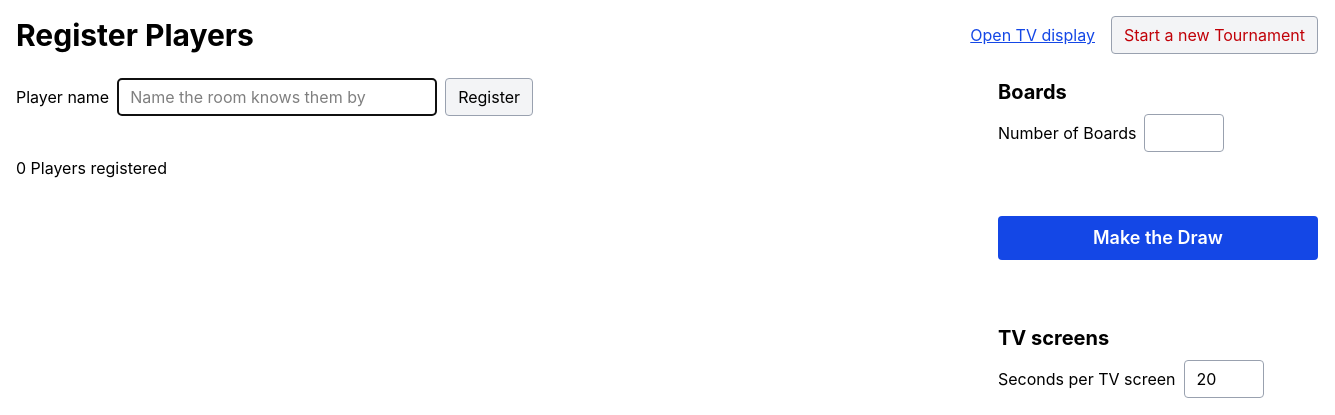
Test case: the organizer route › removes a Player
The image size is (1335, 415).
Type "Dave K." into the field labelled "Player name". click: (277, 97)
box: [117, 78, 437, 116]
Then press Enter
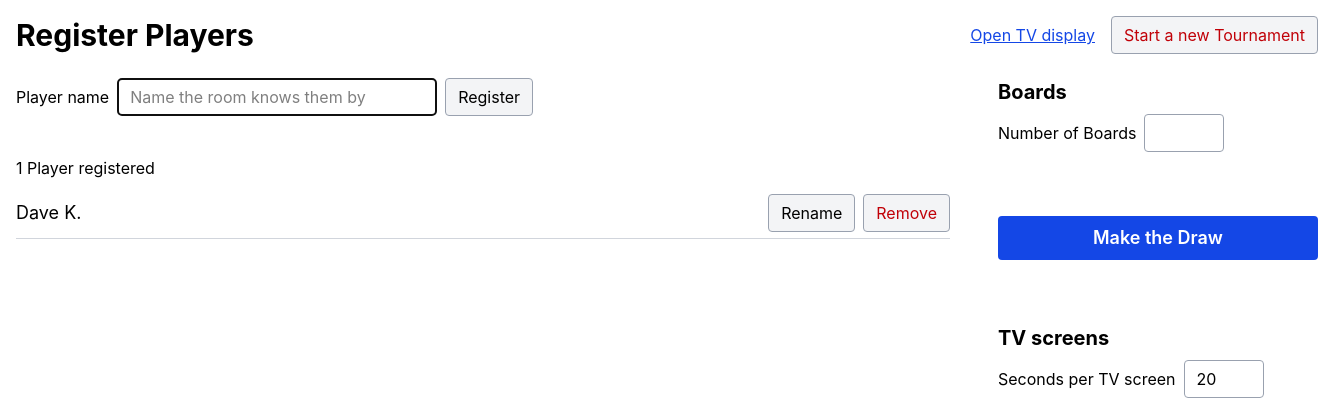
Type "Big Dave" into the field labelled "Player name". click: (277, 97)
box: [117, 78, 437, 116]
Then press Enter
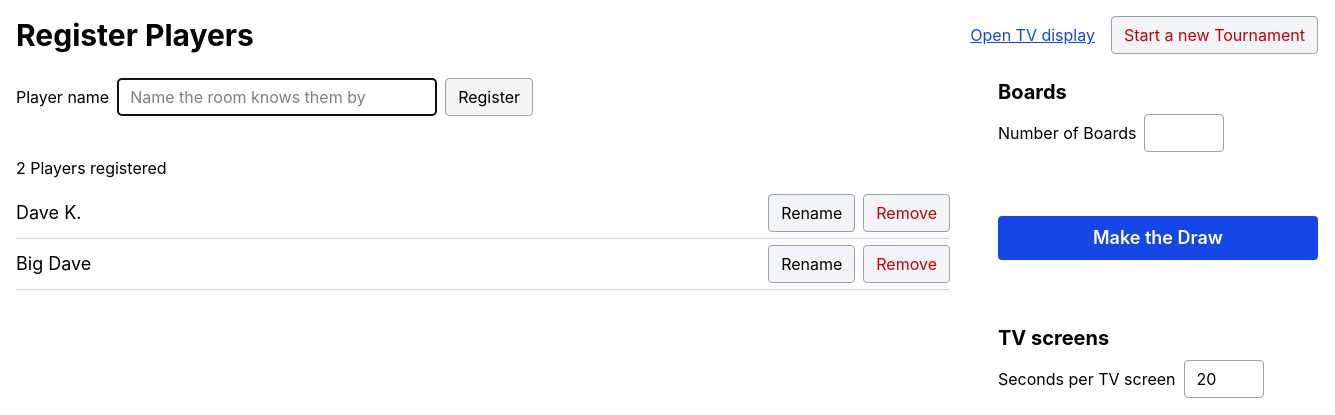
Click the button "Remove" in the row of "Dave K.". click: (907, 213)
box: [863, 194, 950, 232]
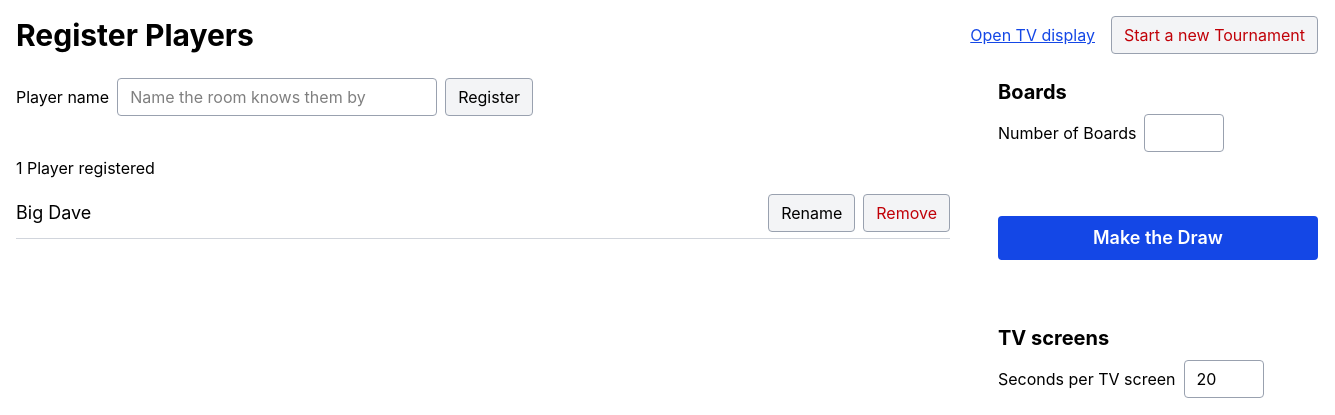
Expected: the text "1 Player registered" is shown, [16, 158, 155, 178]
